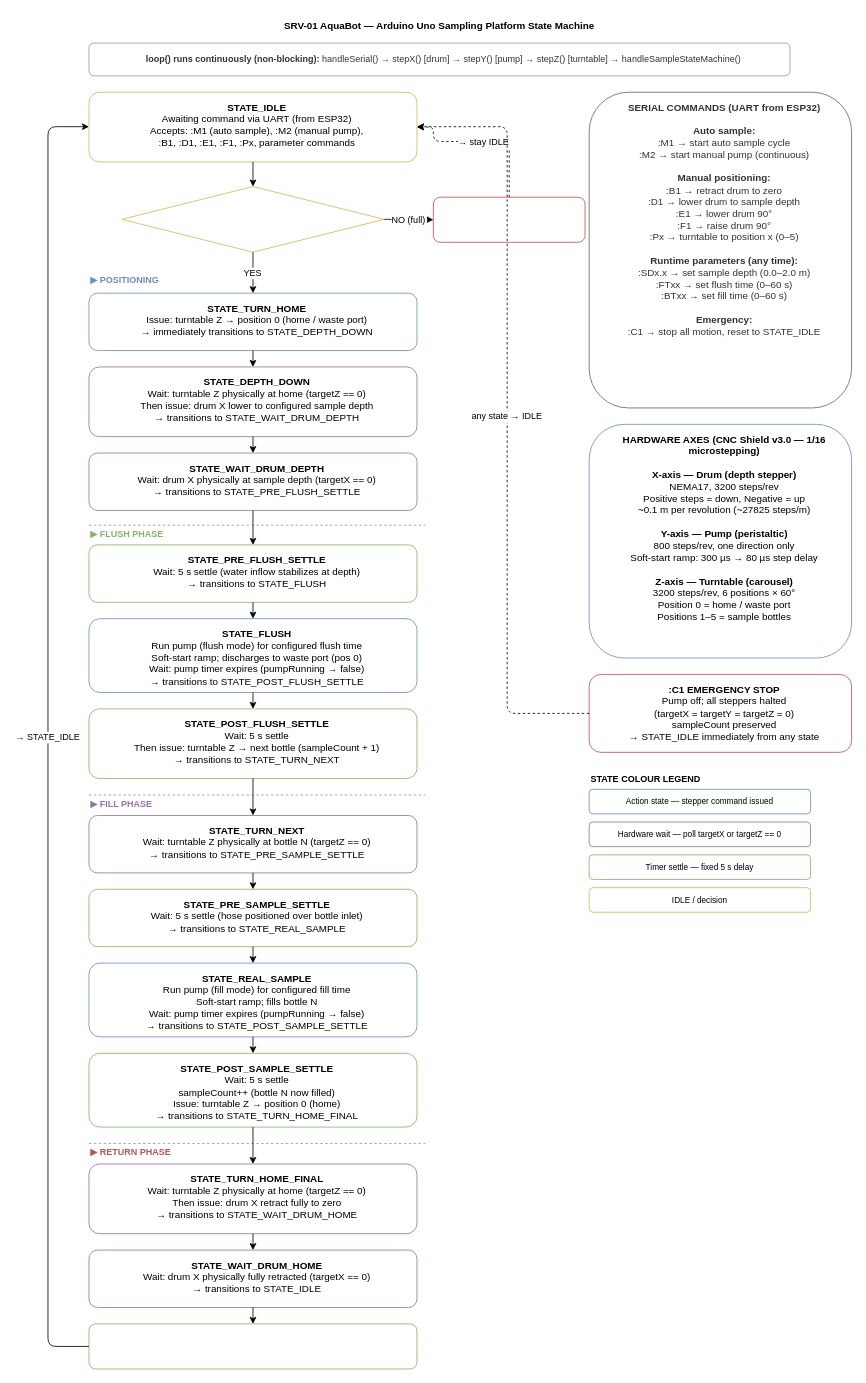
This 866x1383 diagram has some shape labels left out. The shapes that lost their labels are listed below. From the top down, each one's box as (x1, y1, x2, y2) in pixels, then its label:
(121, 186, 384, 252): :M1 received sampleCount < 5 ?
(433, 196, 585, 242): Reply :FULL to ESP32 All 5 bottles filled — reject
(88, 1323, 417, 1369): Send :X1 to ESP32 — cycle complete → STATE_IDLE
